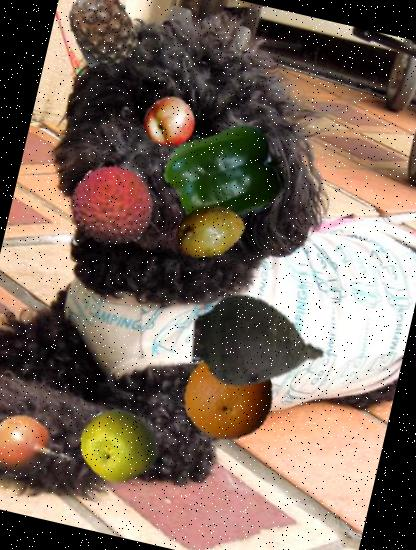Beetroot: (175, 258, 345, 428)
Granadilla: (0, 401, 80, 504)
Lychee: (61, 155, 162, 256)
Nectarine: (138, 92, 200, 153)
Orange: (174, 343, 283, 452)
Papaya: (168, 190, 252, 274)
Pepper: (156, 105, 296, 245)
Pineapple: (55, 0, 150, 76)
Pomelo: (73, 400, 165, 492)
